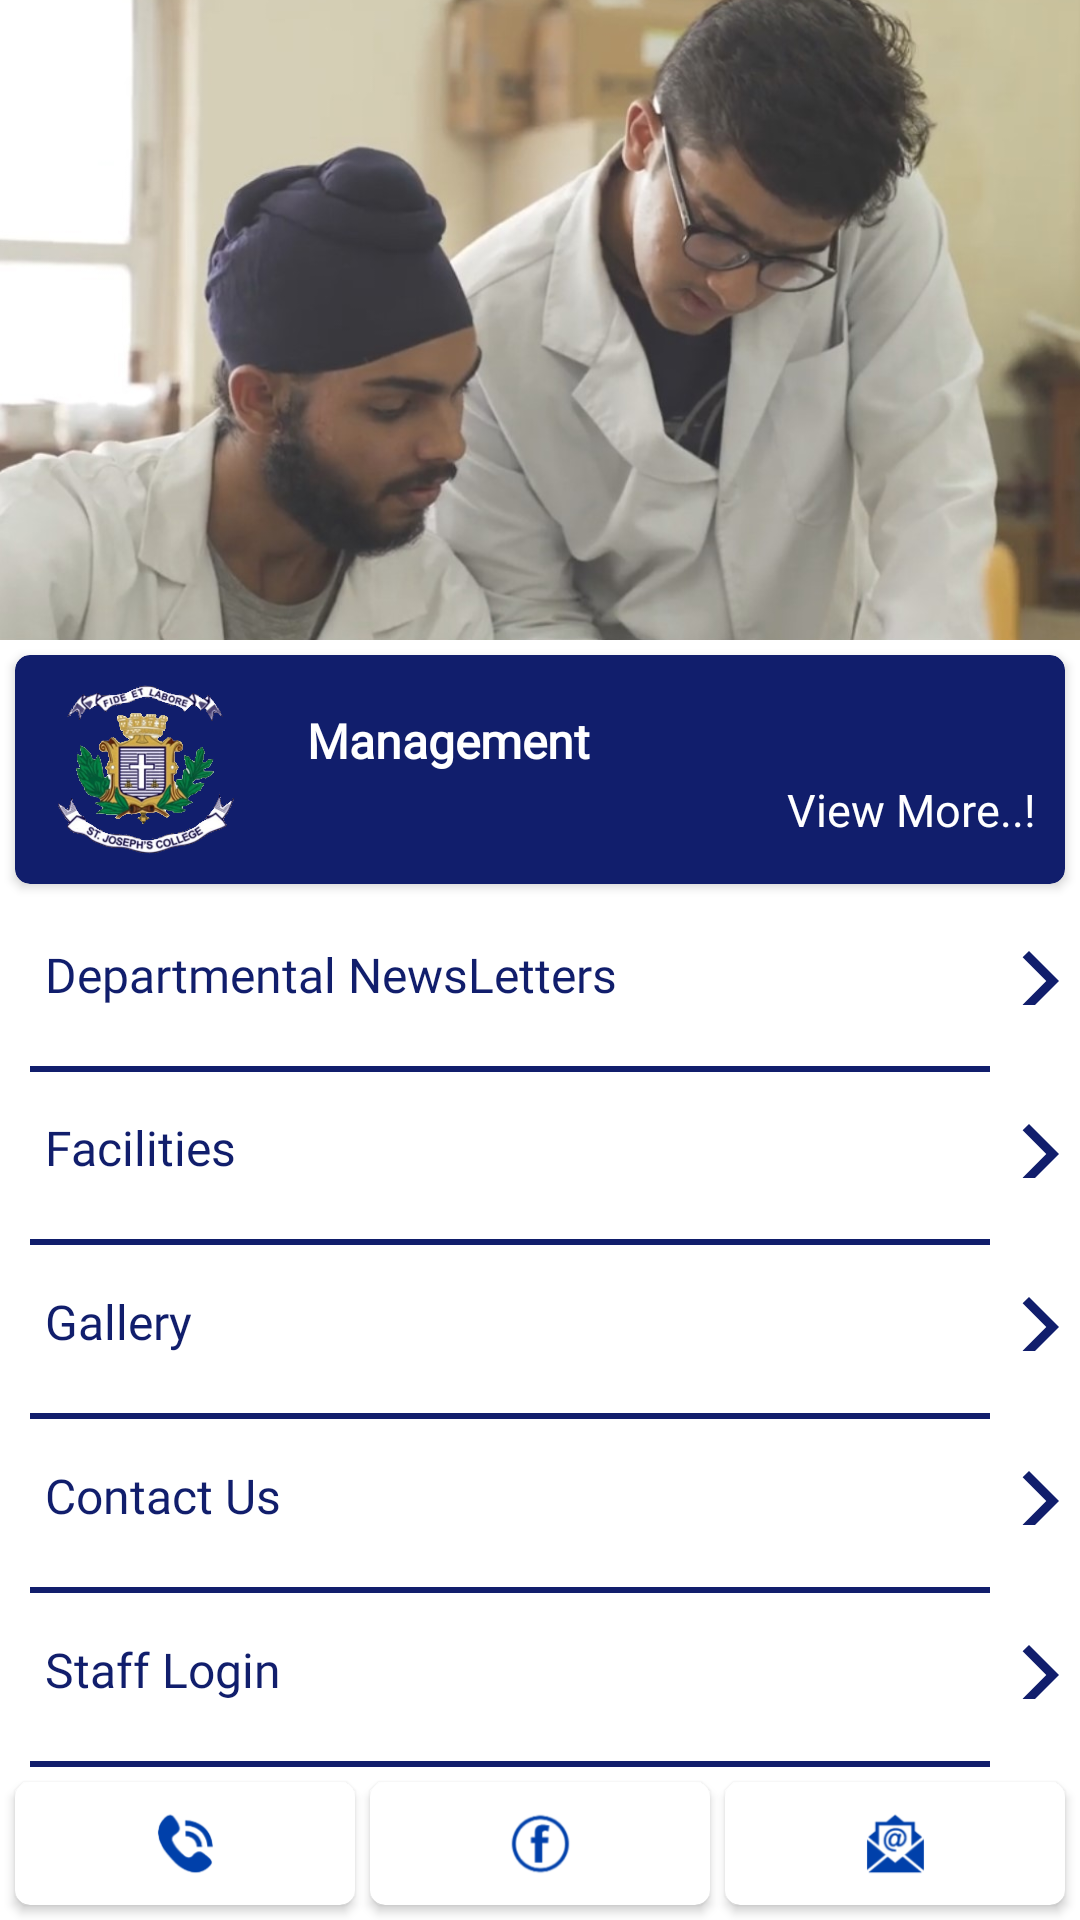

Screen size 1080px×1920px. Icon name, then its box in pixels as (x1,y1,x2,y2):
call: (158,1814,213,1873)
mail: (867,1814,924,1873)
